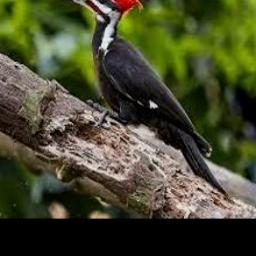Woodpecker: (59, 0, 230, 198)
